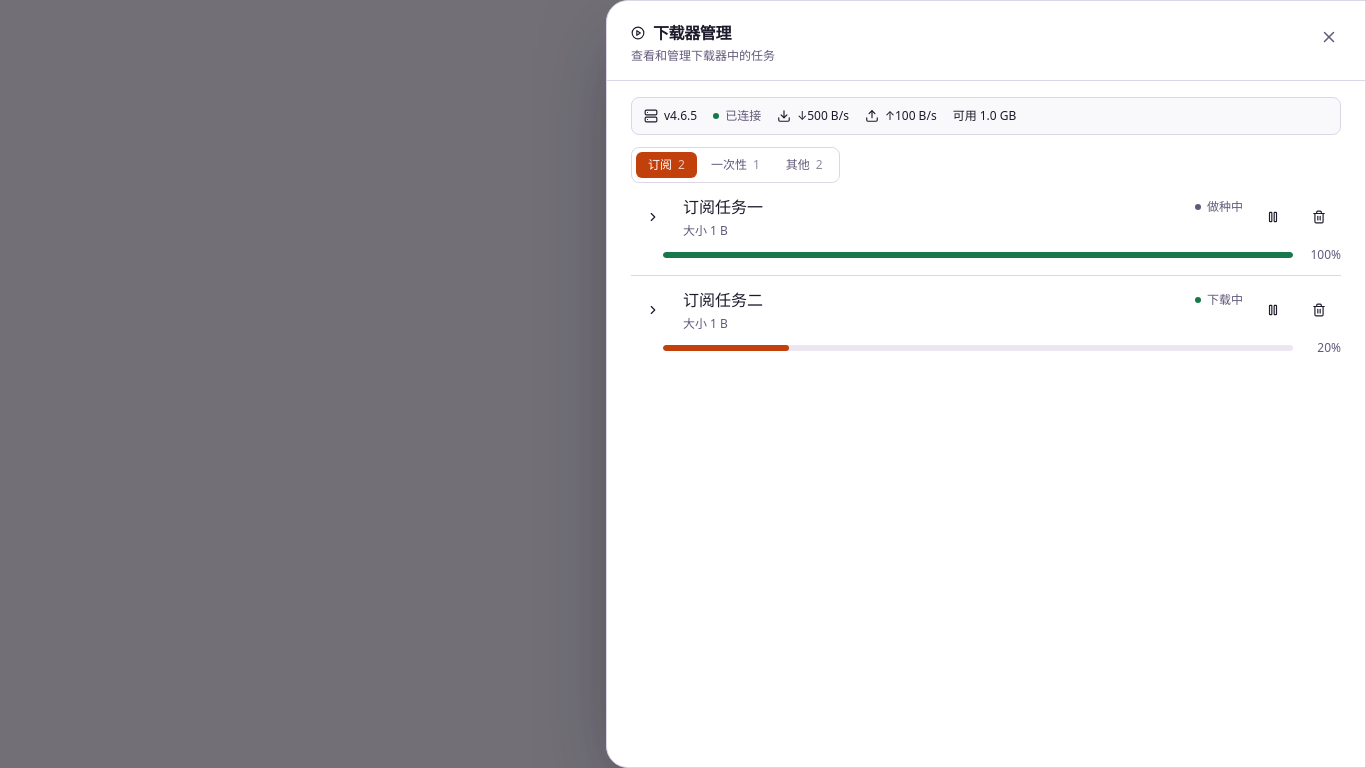
Test: QBManagerDialog segments › 按服务端给出的来源分段，每段显示计数；来源不明的任务放在「其他」并标注
The width and height of the screenshot is (1366, 768).
Expected: the number of list items is 2, x1=631 y1=183 x2=1341 y2=276; x1=631 y1=276 x2=1341 y2=368
Expected: the text "订阅任务一" is shown, x1=683 y1=196 x2=763 y2=218
Click the radio button labelled "一次性 1".
click(735, 164)  # box x1=711 y1=156 x2=760 y2=173
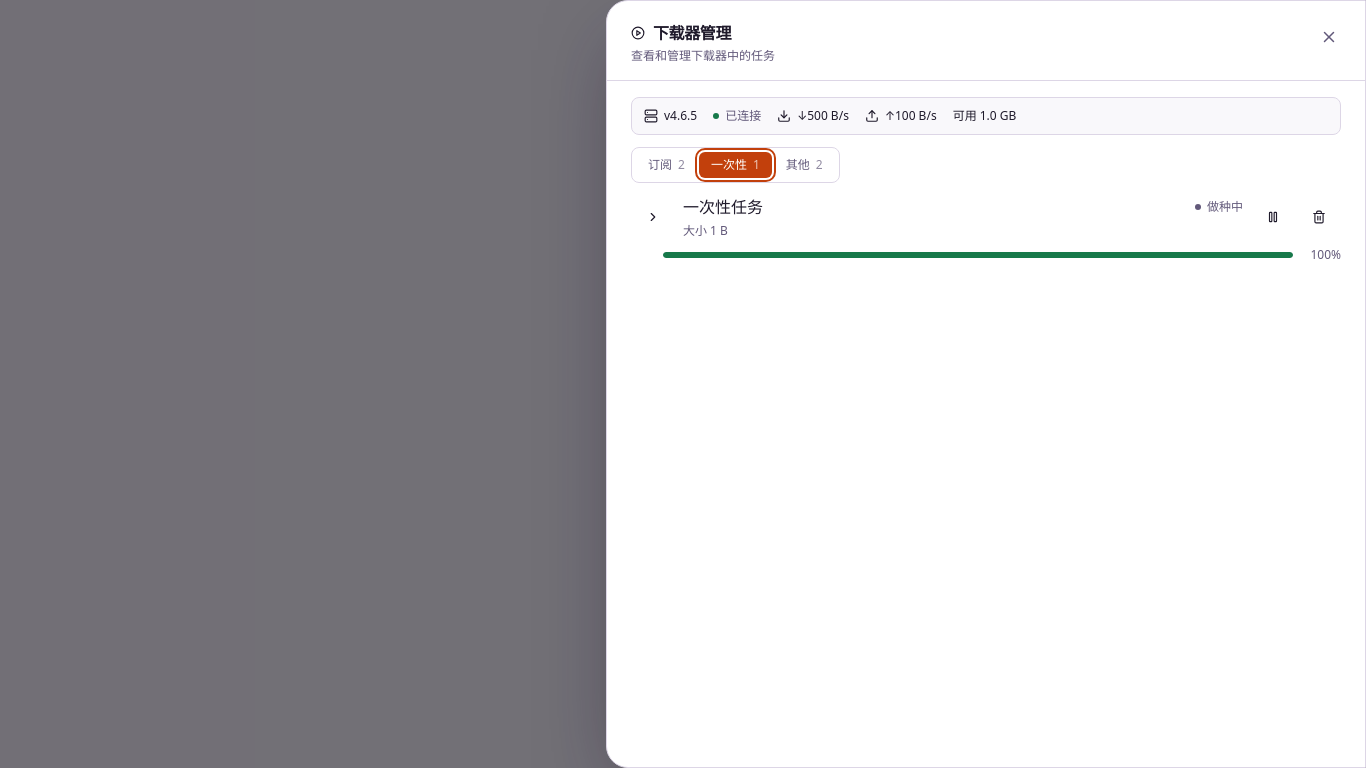
Expected: the number of list items is 1, x1=631 y1=183 x2=1341 y2=275
Expected: the text "一次性任务" is shown, x1=683 y1=196 x2=763 y2=218
Click the radio button labelled "其他 2".
click(804, 164)  # box x1=786 y1=156 x2=823 y2=173
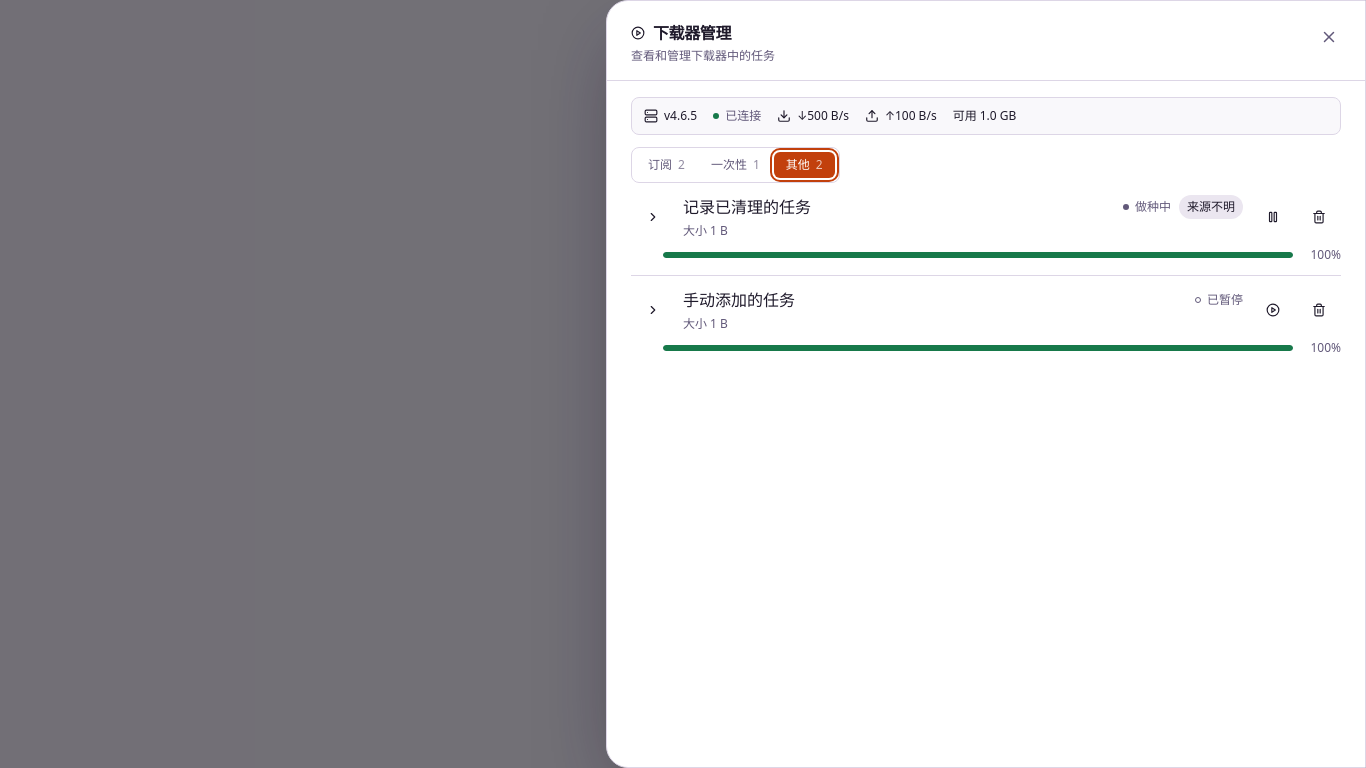
Expected: the number of list items is 2, x1=631 y1=183 x2=1341 y2=276; x1=631 y1=276 x2=1341 y2=368
